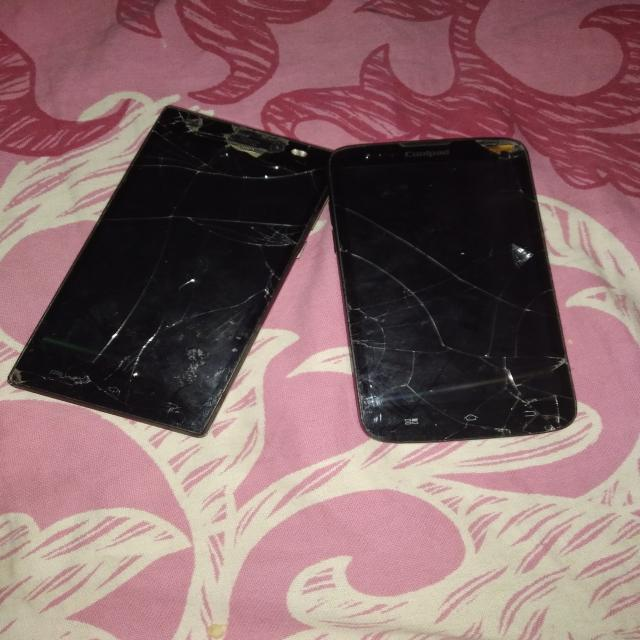screen crack: (58, 109, 314, 414), (354, 232, 565, 442), (476, 118, 542, 173)
